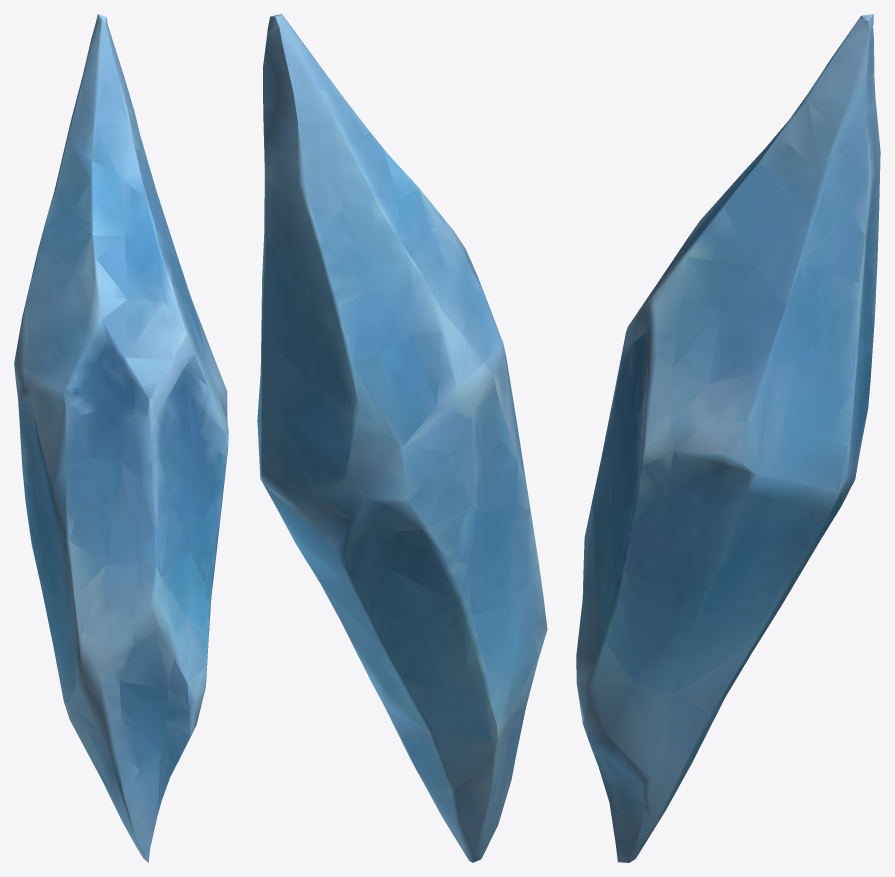
File: esquirla_hielo_700.glb
3 views of the same model, side by side, from view 1: azimuth 30°, elevation 25°; view 2: azimuth 150°, elevation 25°; view 3: azimuth 270°, elevation 25° (orthographic). The views are drawn at different scales.
Visible parts, largest first — view 1: esquirla_hielo_malla; view 2: esquirla_hielo_malla; view 3: esquirla_hielo_malla.
Boxes of the visible parts, x1=… form: esquirla_hielo_malla: x1=14, y1=14, x2=228, y2=862; esquirla_hielo_malla: x1=257, y1=14, x2=547, y2=862; esquirla_hielo_malla: x1=576, y1=14, x2=880, y2=862.
Bounding box in the file's own units: 0.0835 × 0.3117 × 0.0975.
1 material, 1 textured.
